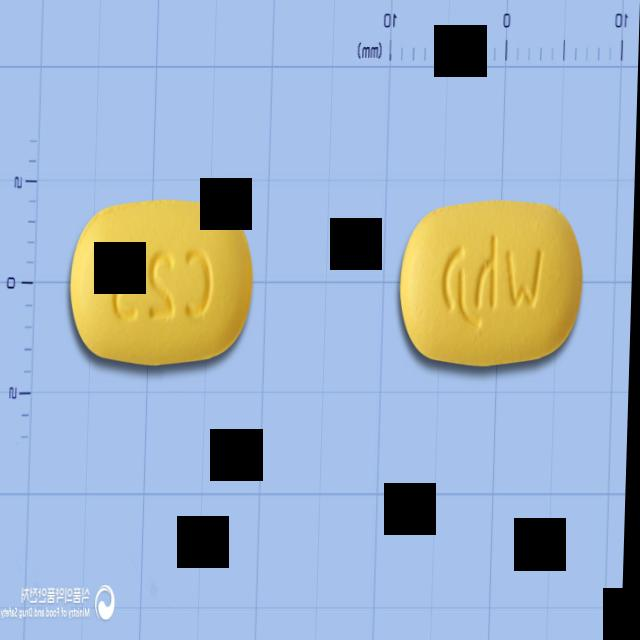Claton: (67, 194, 258, 371), (397, 198, 589, 368)
